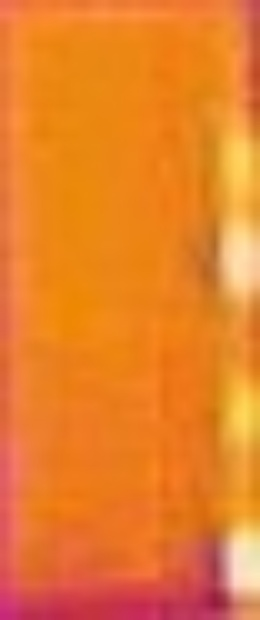Diode: (200, 111, 260, 610)
